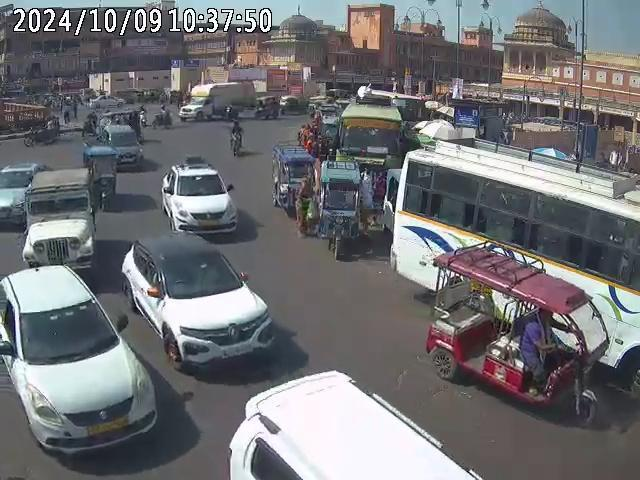auto: (424, 241, 608, 423), (316, 158, 367, 260), (271, 140, 319, 219), (82, 145, 118, 208)
bus: (390, 134, 640, 372), (340, 89, 411, 166)
car: (0, 262, 157, 463), (228, 370, 487, 480), (119, 230, 279, 380), (21, 169, 98, 273), (160, 159, 239, 236), (0, 160, 48, 228), (93, 122, 145, 170)
lorry: (181, 81, 246, 124)
motorbike-rider: (227, 115, 244, 156)
